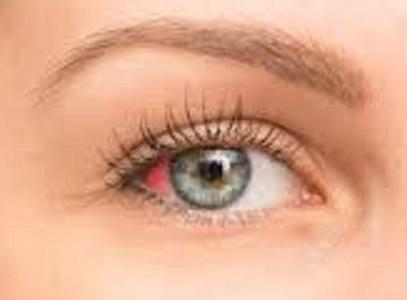open: (63, 105, 380, 260)
